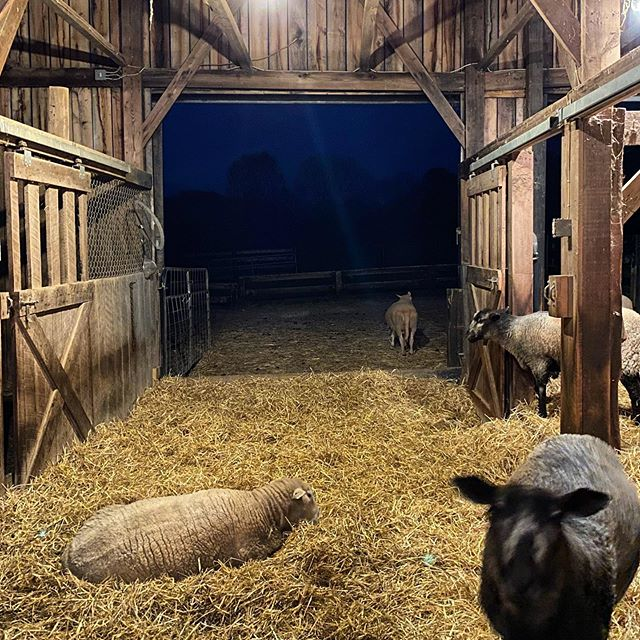animal: (436, 435, 640, 640), (65, 449, 340, 598), (465, 286, 640, 428), (372, 285, 436, 362)
